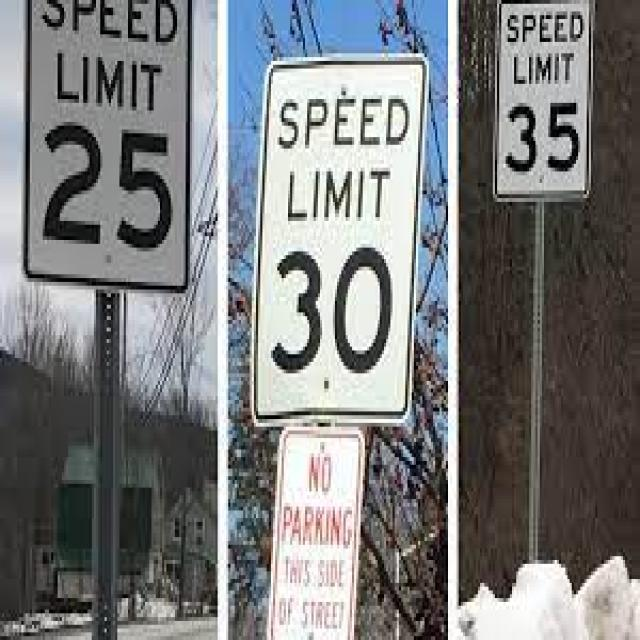speedLimit35: (254, 53, 420, 419)
